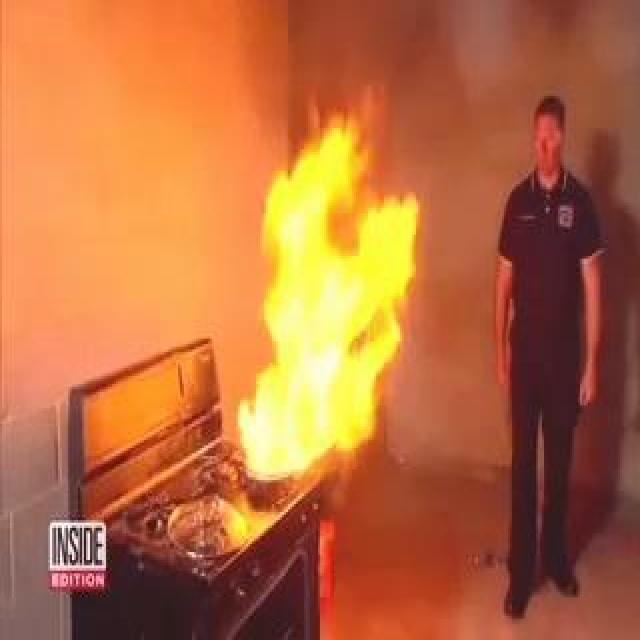Fire: (236, 86, 438, 486)
